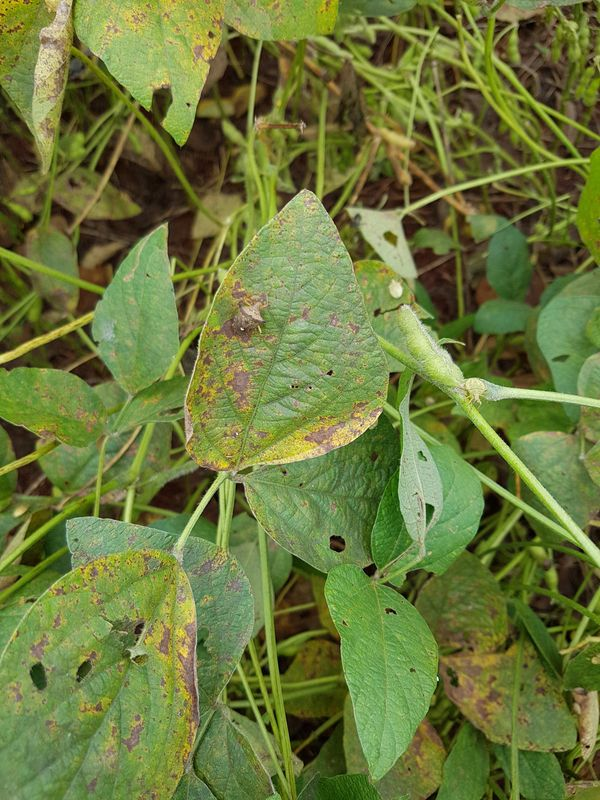Euschistus_heros_adulto: (223, 289, 276, 346)
Euschistus_heros_ninfa: (455, 373, 491, 413), (383, 276, 406, 302)
